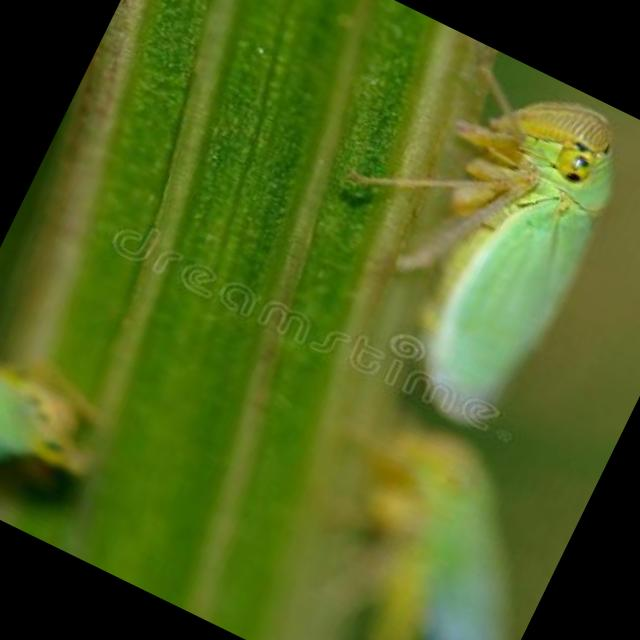green-leafhopper: (346, 63, 640, 440), (322, 429, 564, 640), (0, 333, 95, 532)
